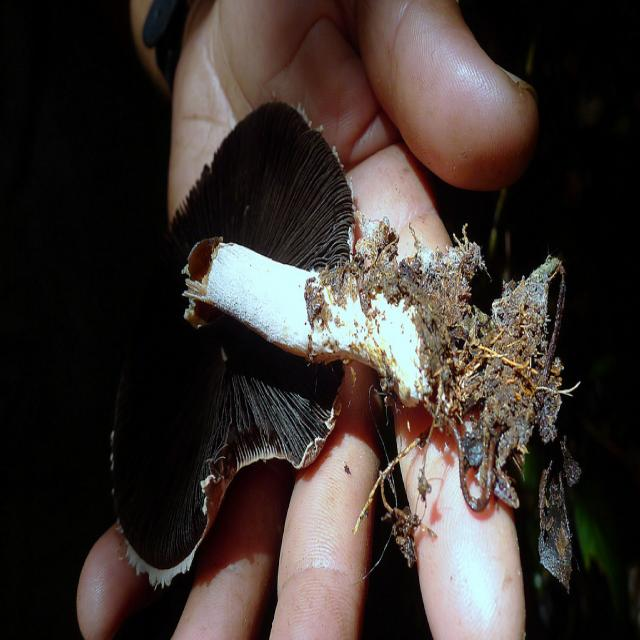Mushroom: (113, 133, 596, 578)
